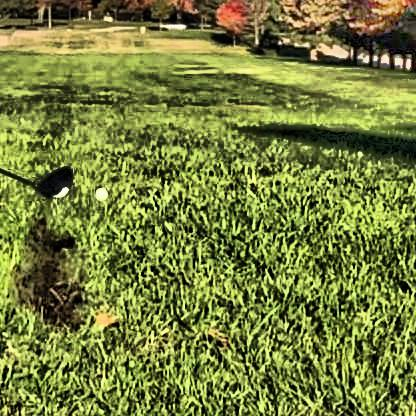golfball: (92, 183, 106, 197)
